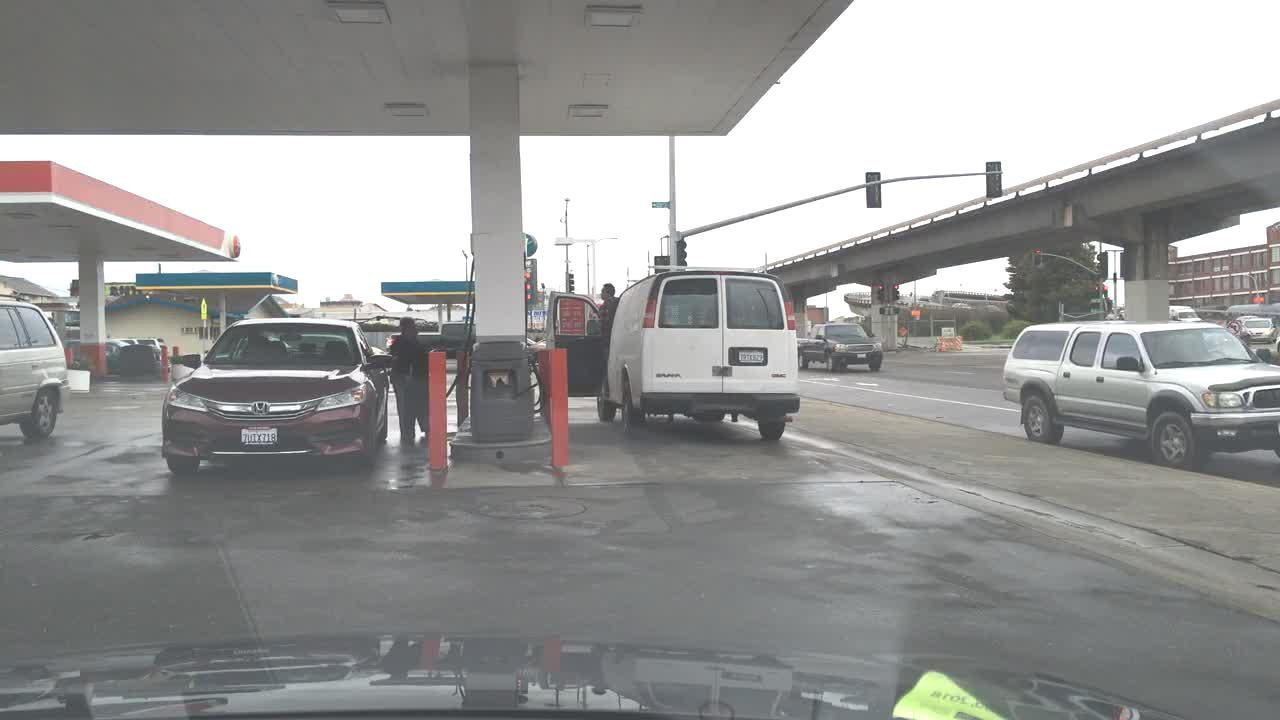GMC: (766, 369, 792, 382)
Honda: (250, 398, 278, 419)
